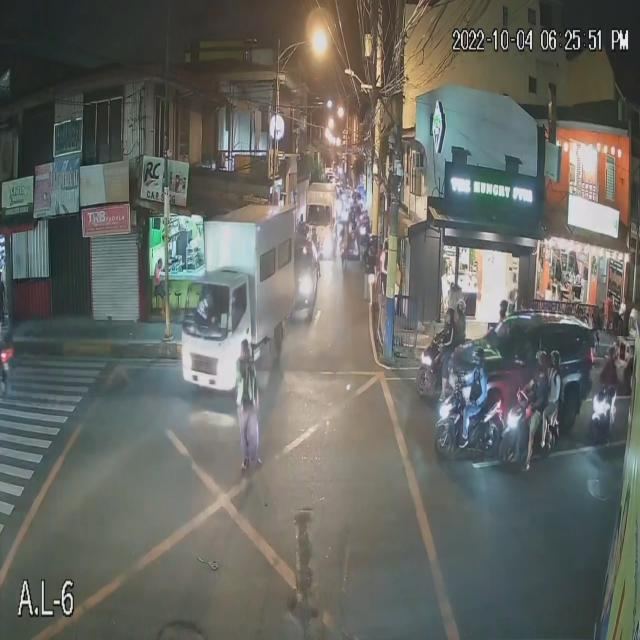Full-Faced: (545, 349, 560, 373), (472, 348, 486, 373), (535, 350, 548, 372), (454, 298, 466, 319), (445, 307, 455, 328)
